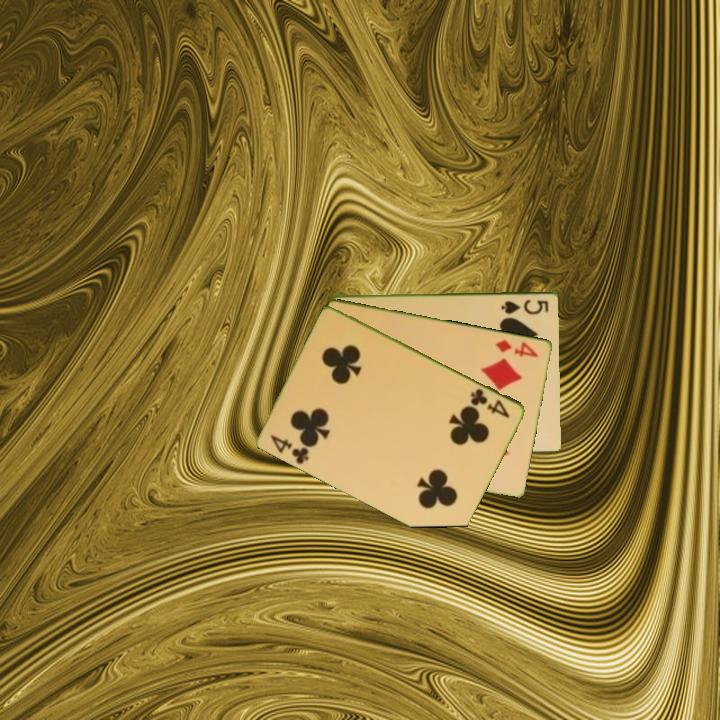4c: (467, 385, 513, 421), (267, 431, 312, 467)
4d: (492, 336, 542, 360)
5s: (498, 296, 551, 316)
